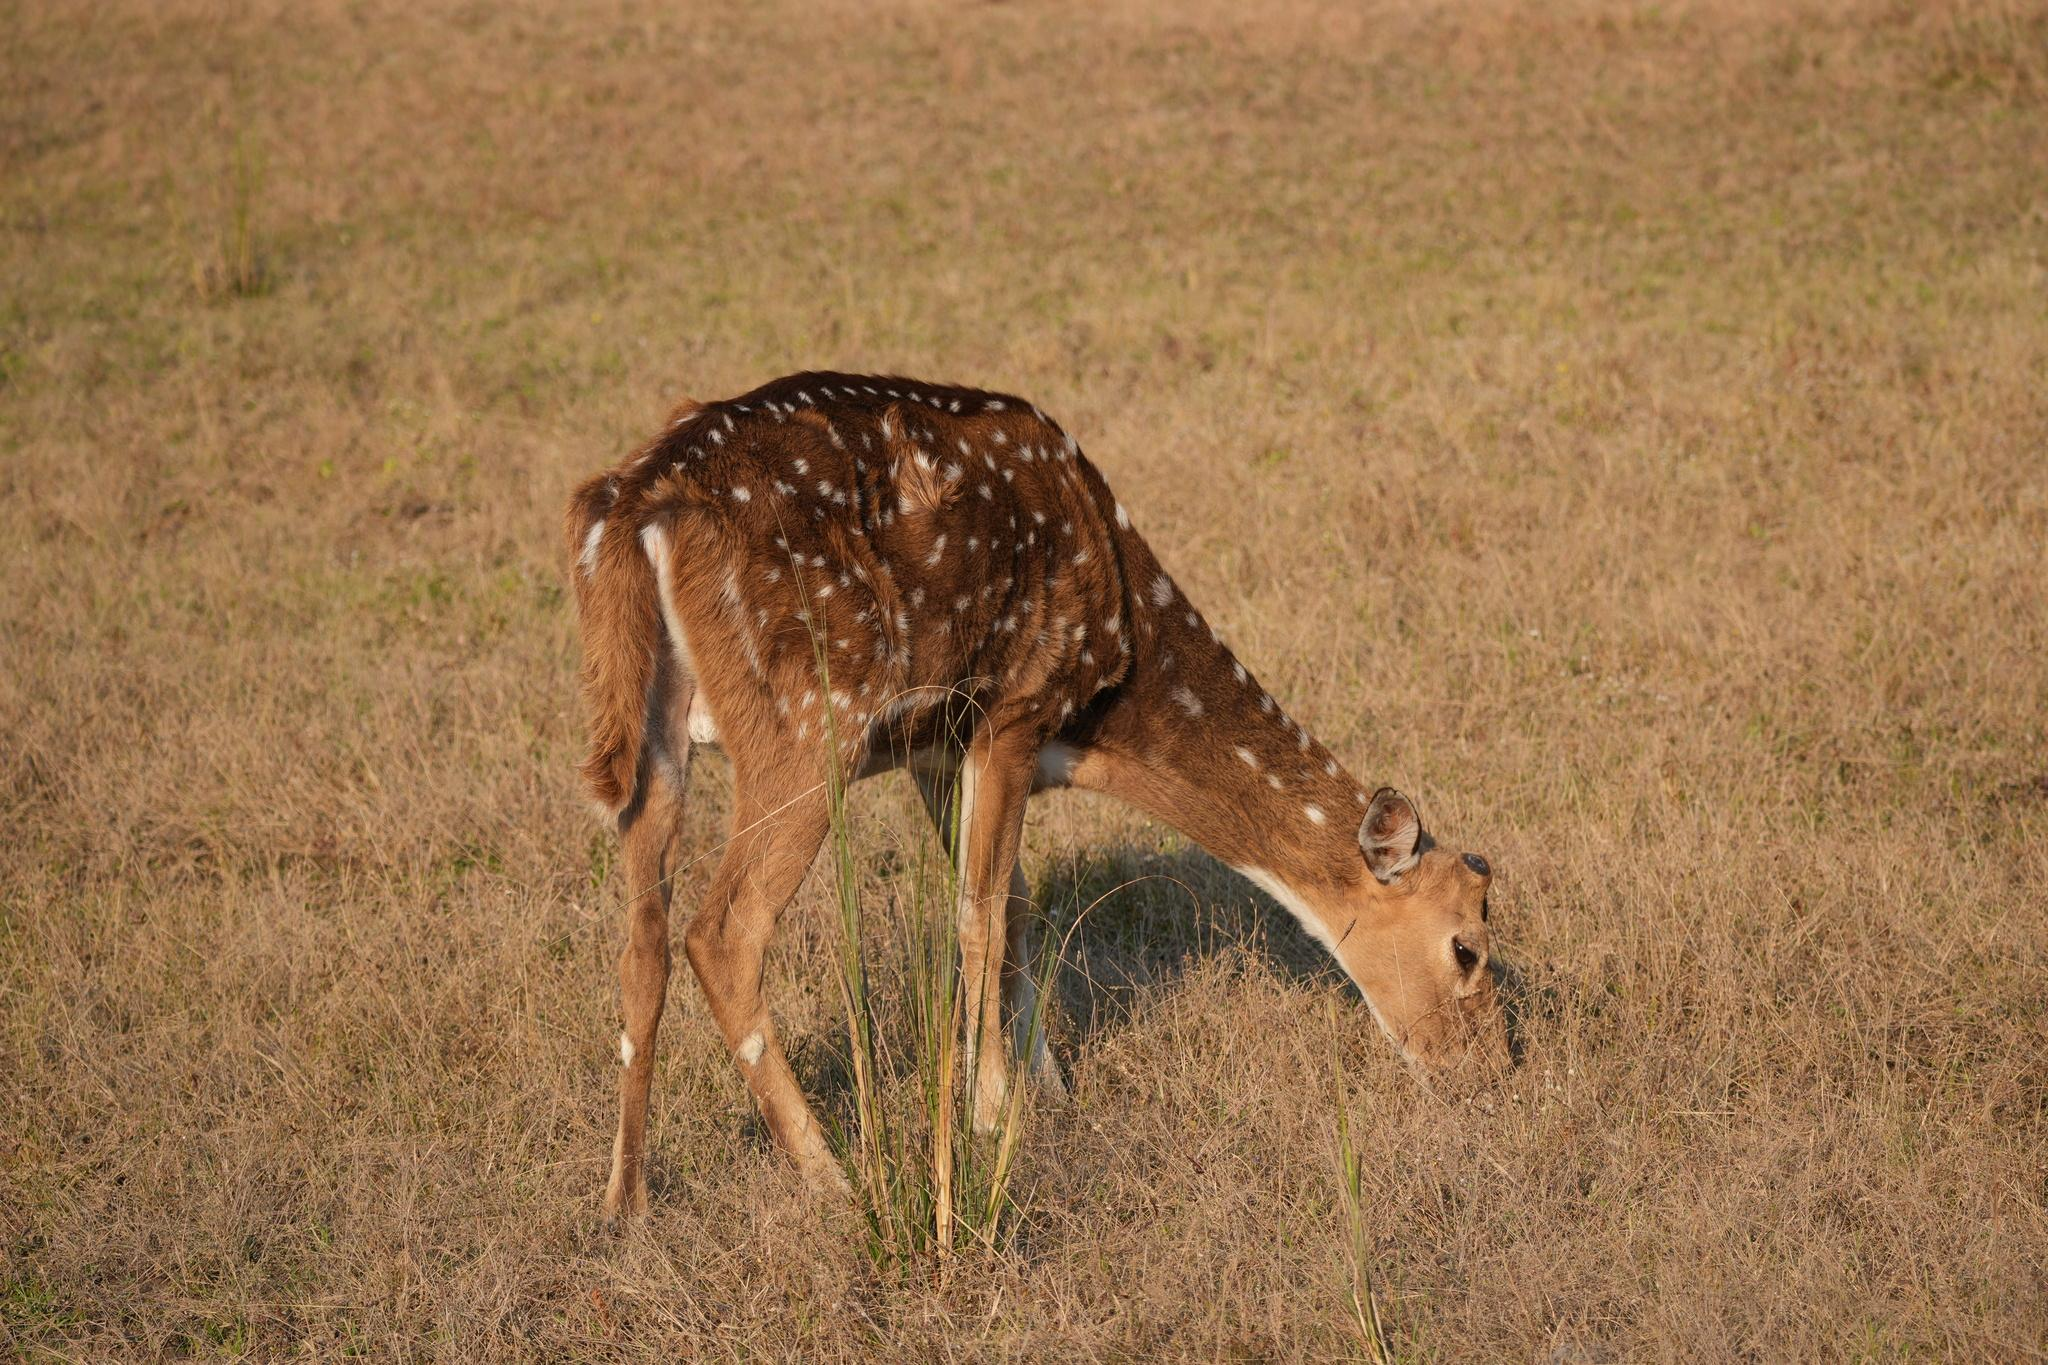Deer: (568, 373, 1495, 1213)
